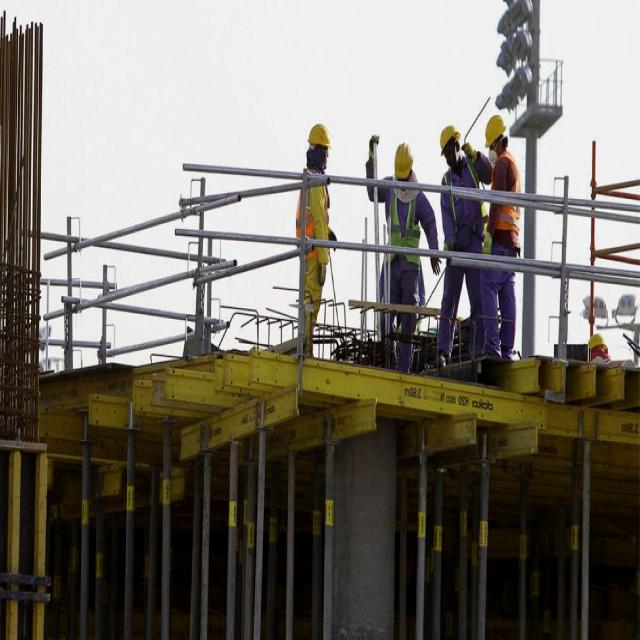face_nomask: (444, 145, 457, 170)
hand_glove: (365, 130, 381, 160), (430, 247, 442, 282), (462, 140, 478, 164)
head_helmet: (394, 142, 416, 178), (484, 114, 506, 144), (437, 121, 459, 151), (306, 124, 333, 146)
person: (366, 148, 426, 354), (287, 124, 335, 346), (438, 126, 484, 352), (488, 120, 524, 368)
vest: (296, 176, 334, 254), (386, 186, 422, 254), (439, 170, 477, 234), (494, 155, 524, 225)
